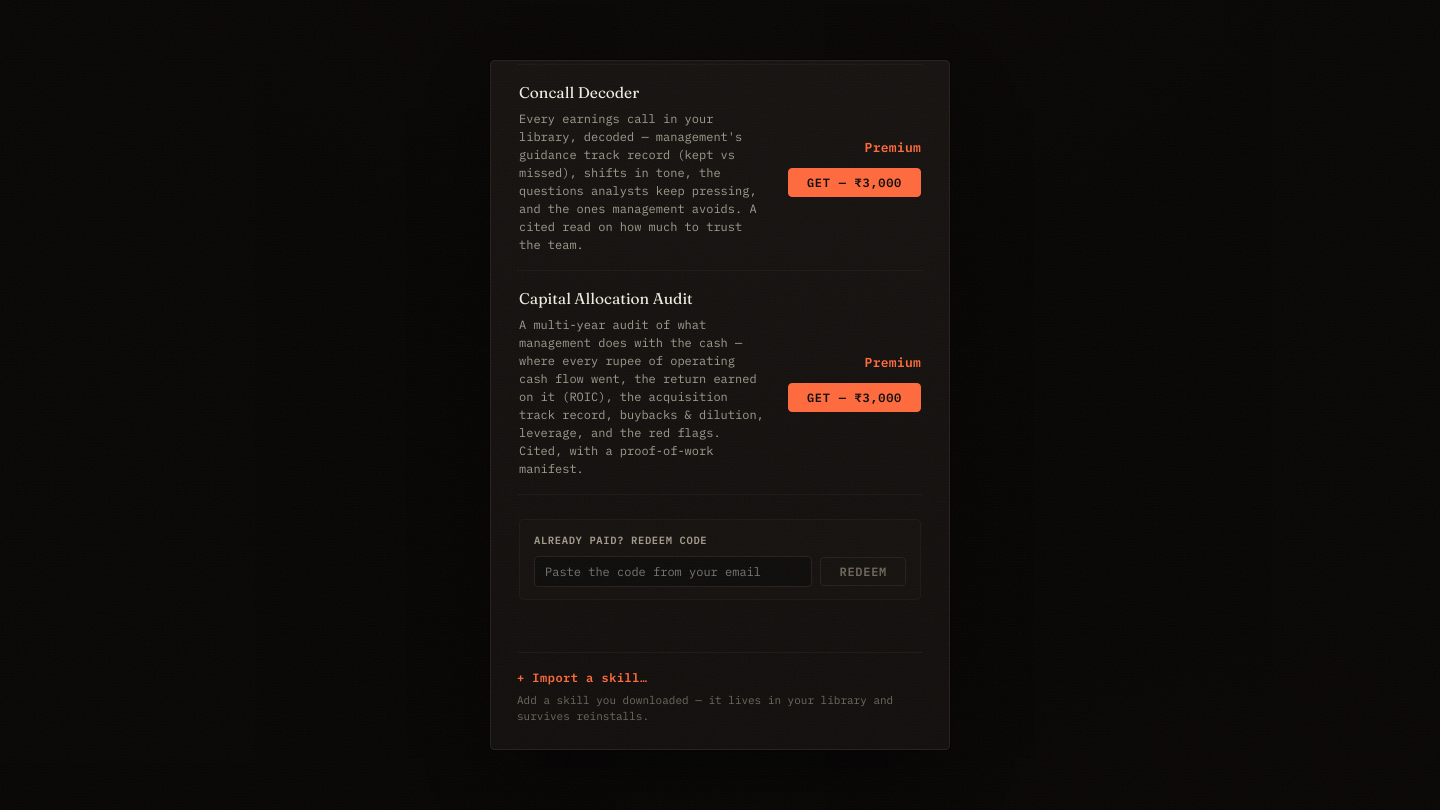
Test: SkillsOverlay: 'Import a skill' picks a .md, imports it, and the new skill appears
The image size is (1440, 810).
(page scrolled)
Click the button "+ Import a skill…" at point(582, 678), box [517,669,648,688]
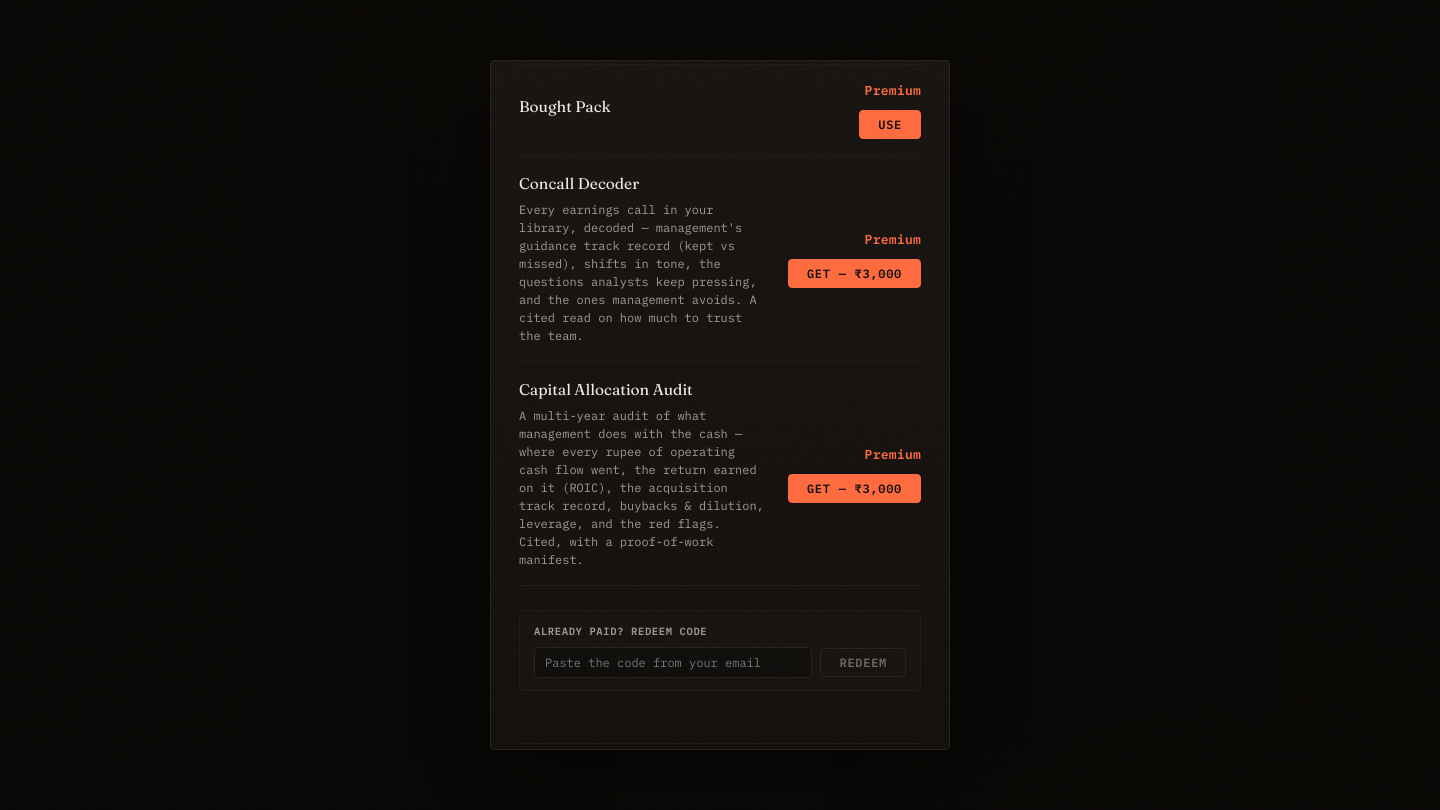
Now the text "Bought Pack" is shown, box [519,96,611,120]
